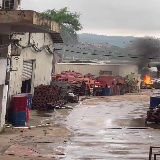fire: (143, 75, 154, 84)
